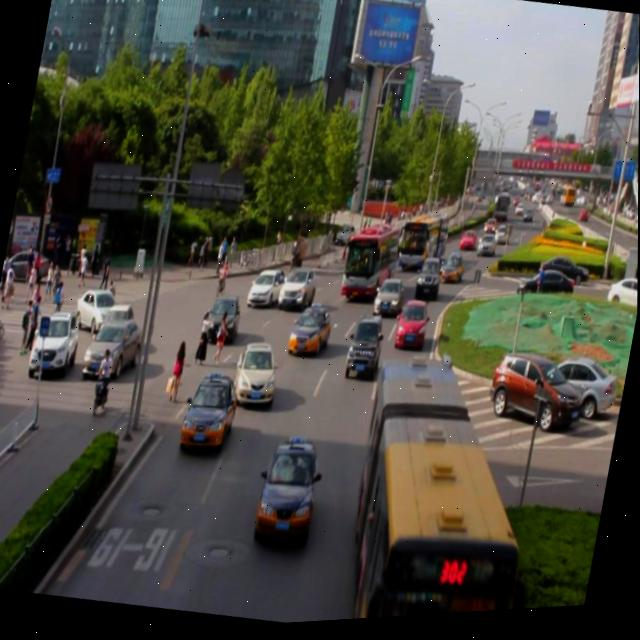car: (253, 437, 325, 549), (178, 370, 242, 455), (391, 360, 445, 440), (230, 341, 282, 412), (285, 301, 333, 368), (343, 316, 385, 383), (276, 258, 318, 313), (204, 290, 243, 345), (393, 301, 431, 357), (246, 263, 285, 307), (373, 278, 404, 323), (414, 257, 441, 303), (439, 253, 465, 289)
van: (331, 356, 549, 624), (338, 220, 401, 308), (396, 213, 450, 282)
